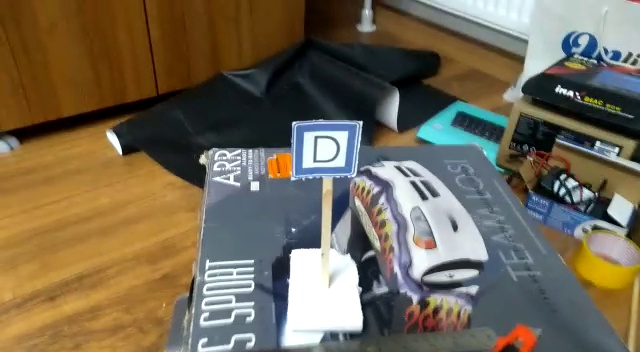durak: (292, 124, 354, 174)
